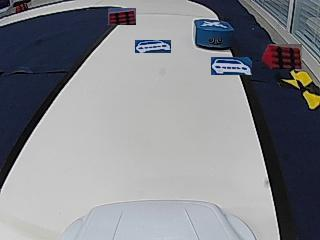prop: (194, 19, 234, 51)
